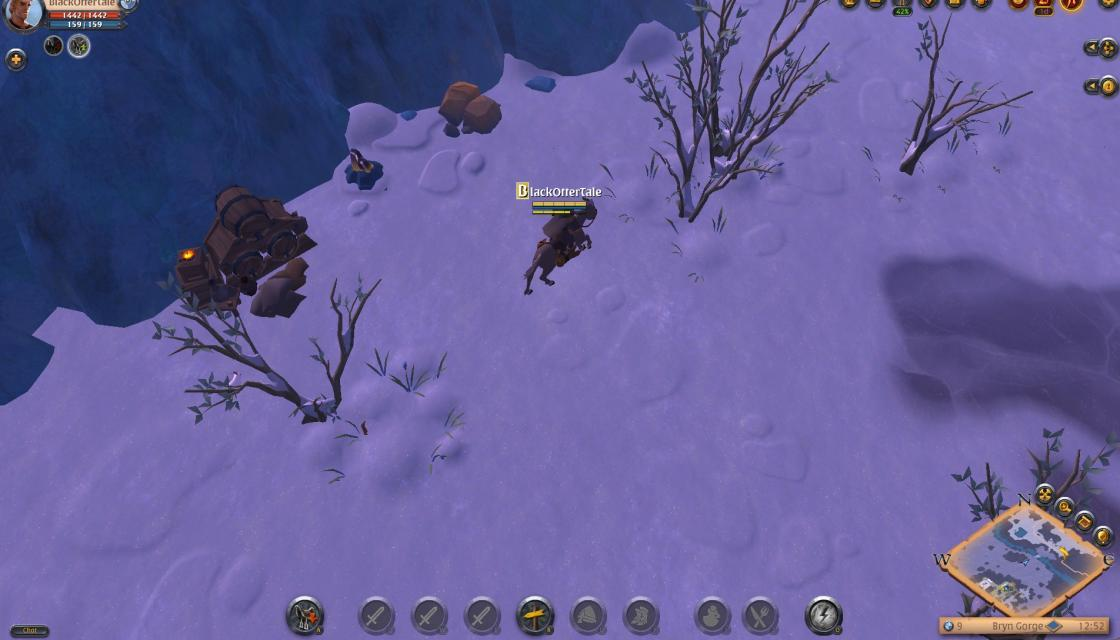copperore: (338, 147, 386, 192)
limestone: (436, 75, 504, 142)
